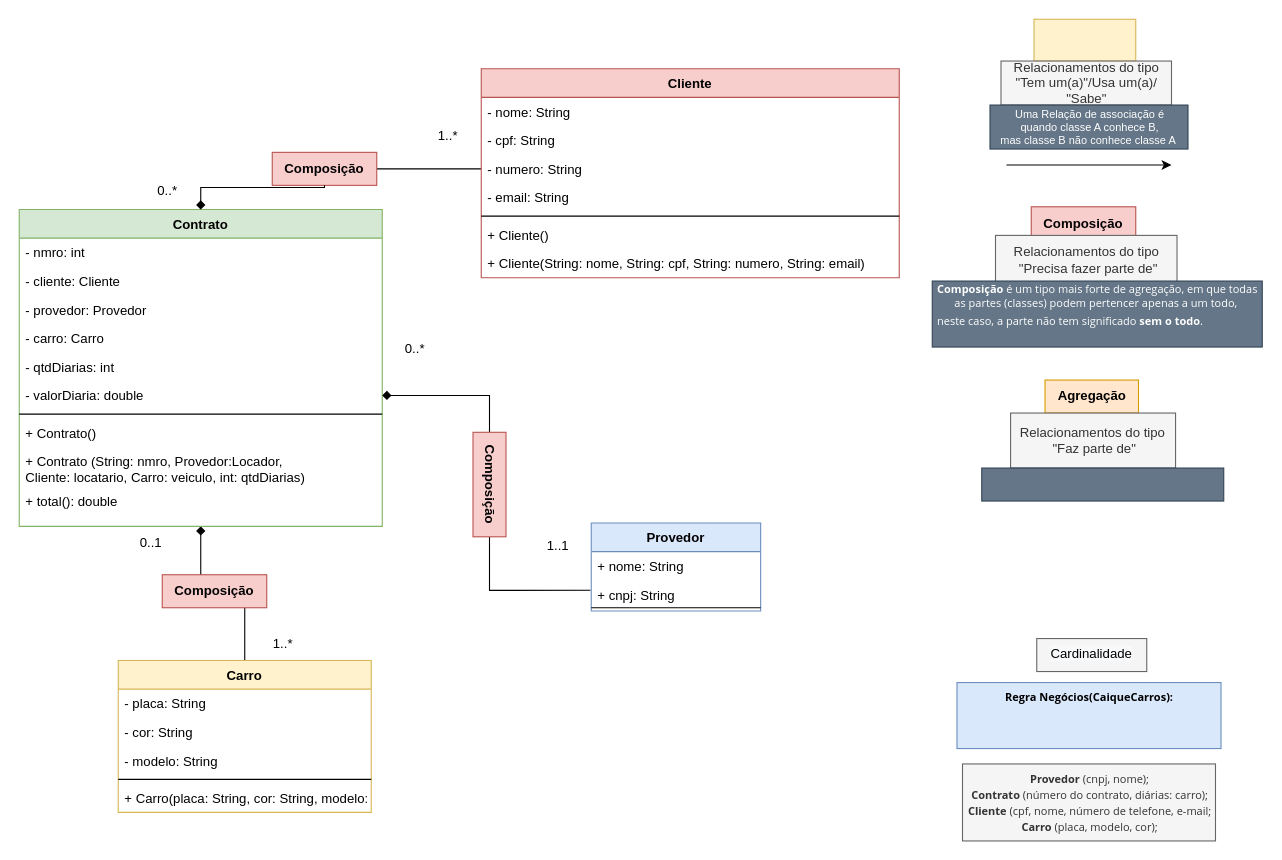
This 1282x860 diagram has some shape labels left out. Each missing label, with the centre of its shape:
Associação: [1084,39]
Relação de agregação é quando as entidades podem existir independemente: [1102,484]
